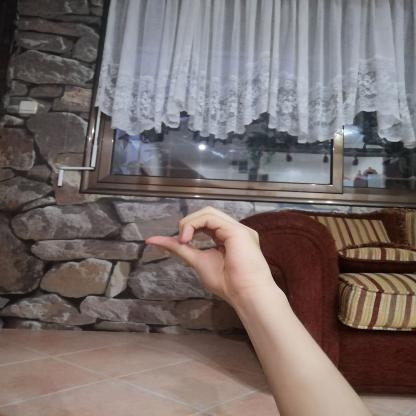WAW: (133, 198, 283, 308)
